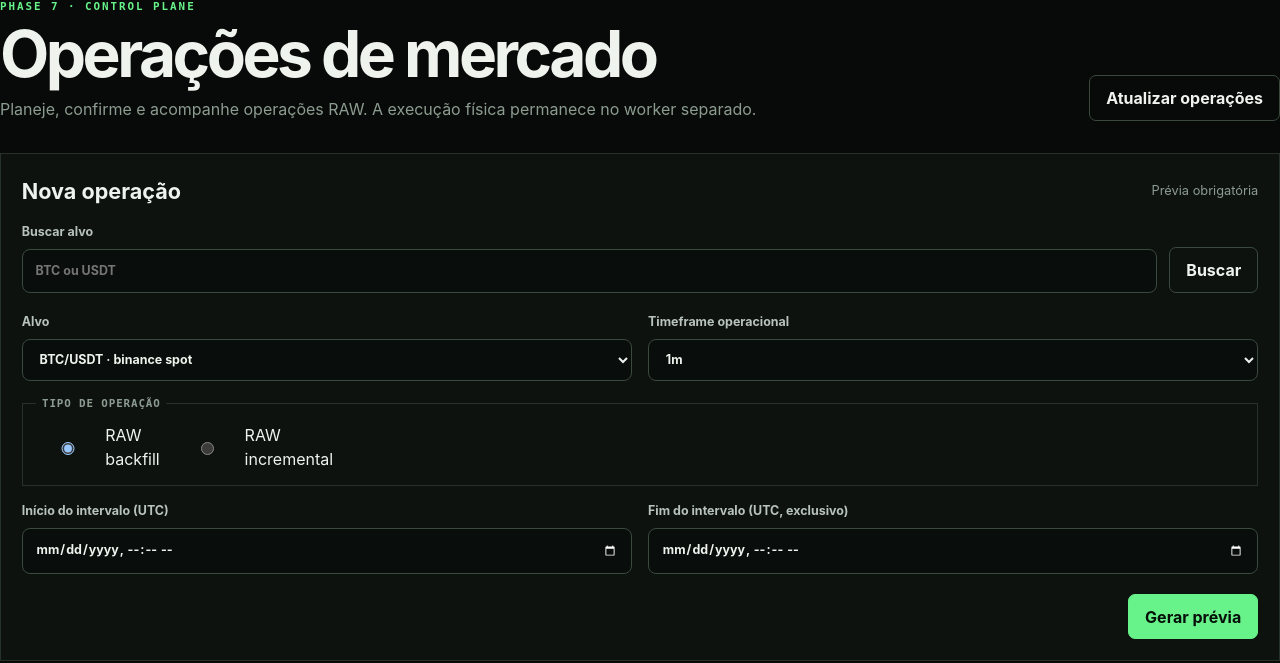
Test: MarketOperationsPage › renderiza incremental RUN e impede submit quando a prévia retorna NOOP
Select "12h" in the dropdown labelled "Timeframe operacional" at (953, 360), box [648, 339, 1258, 381]
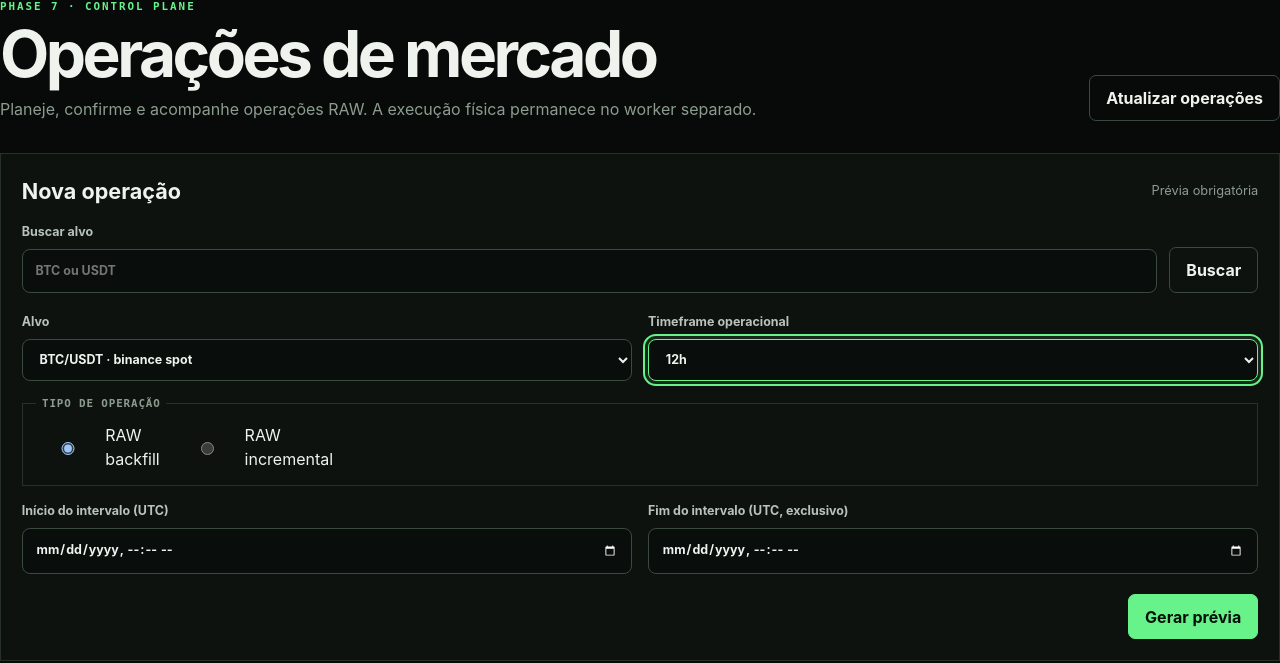
Click the radio button labelled "RAW incremental" at (208, 449), box [181, 442, 234, 455]
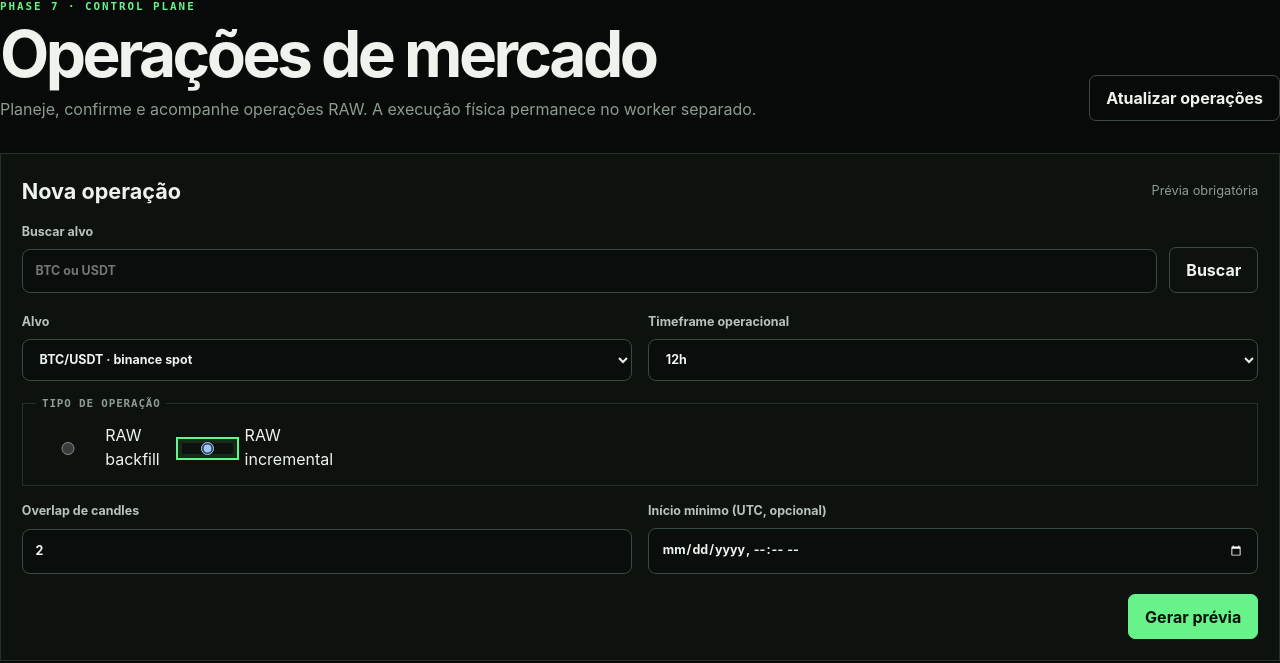
Click the button "Gerar prévia" at (1193, 616), box [1128, 594, 1258, 639]
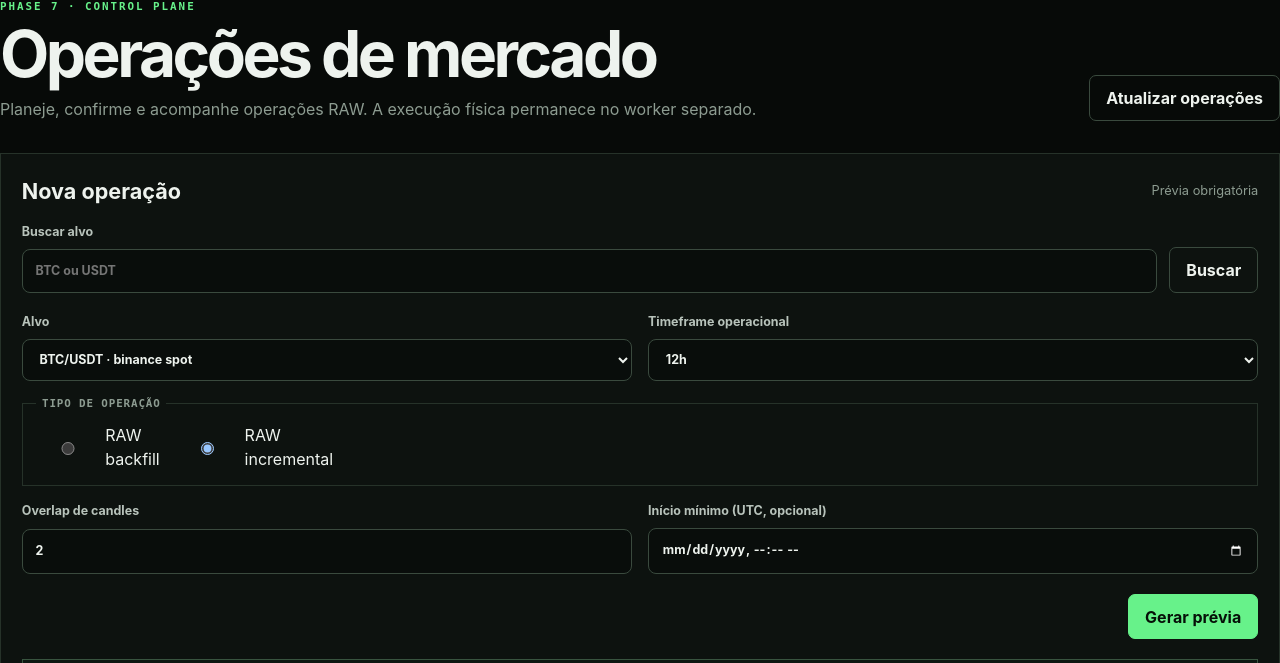
Replace the text in the number field labelled "Overlap de candles" with "3" at (327, 551), box [22, 529, 632, 574]
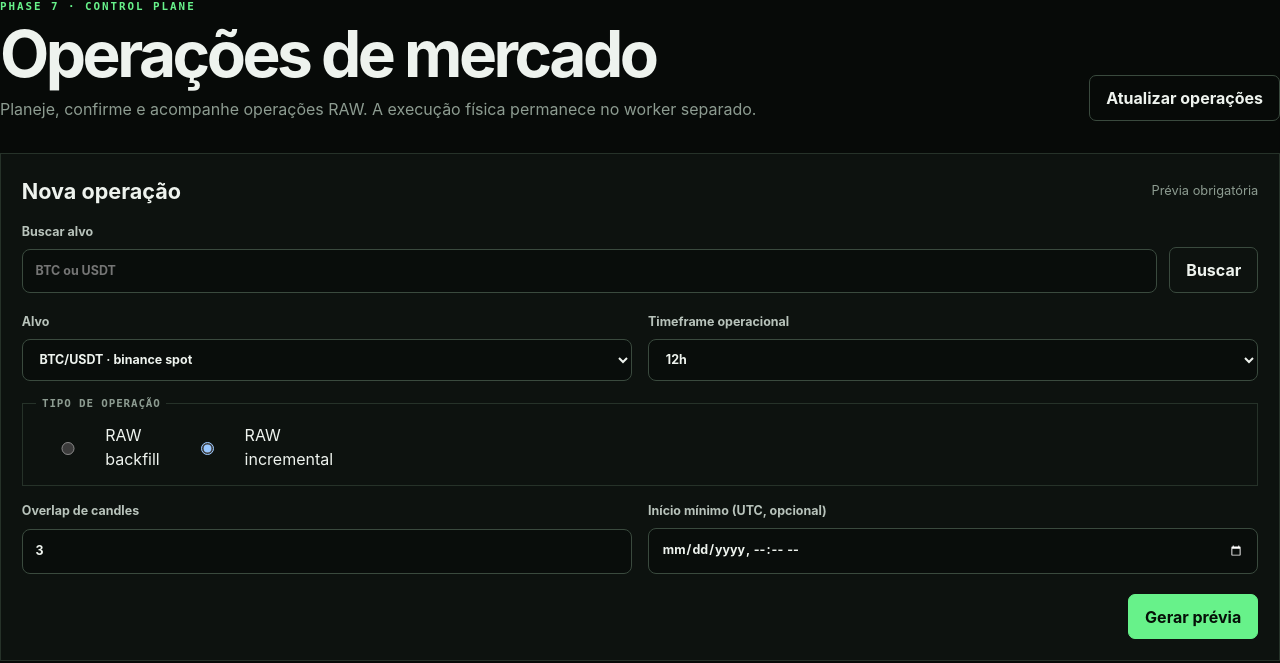
Click the button "Gerar prévia" at (1193, 616), box [1128, 594, 1258, 639]
(page scrolled)
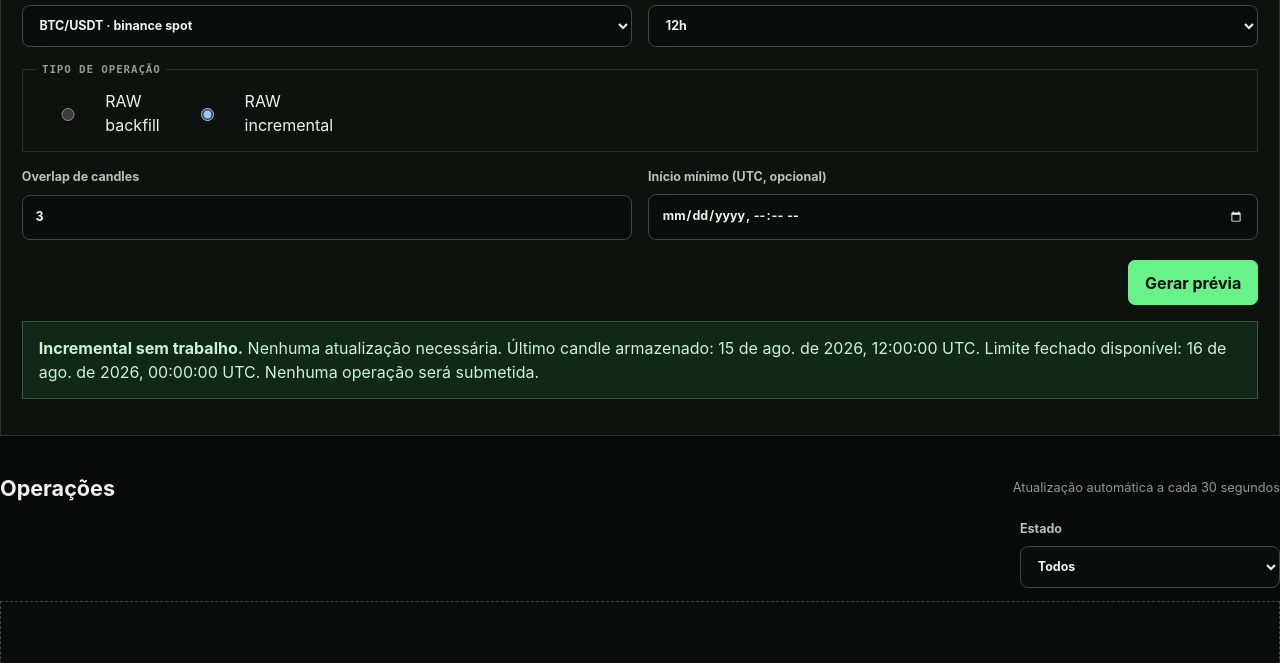
Expected: the text "Incremental sem trabalho." is shown, [39, 338, 243, 358]
Expected: the text "Limite fechado disponível:" is shown, [39, 338, 1226, 382]
Expected: the text "Nenhuma operação será submetida" is shown, [260, 362, 539, 382]
